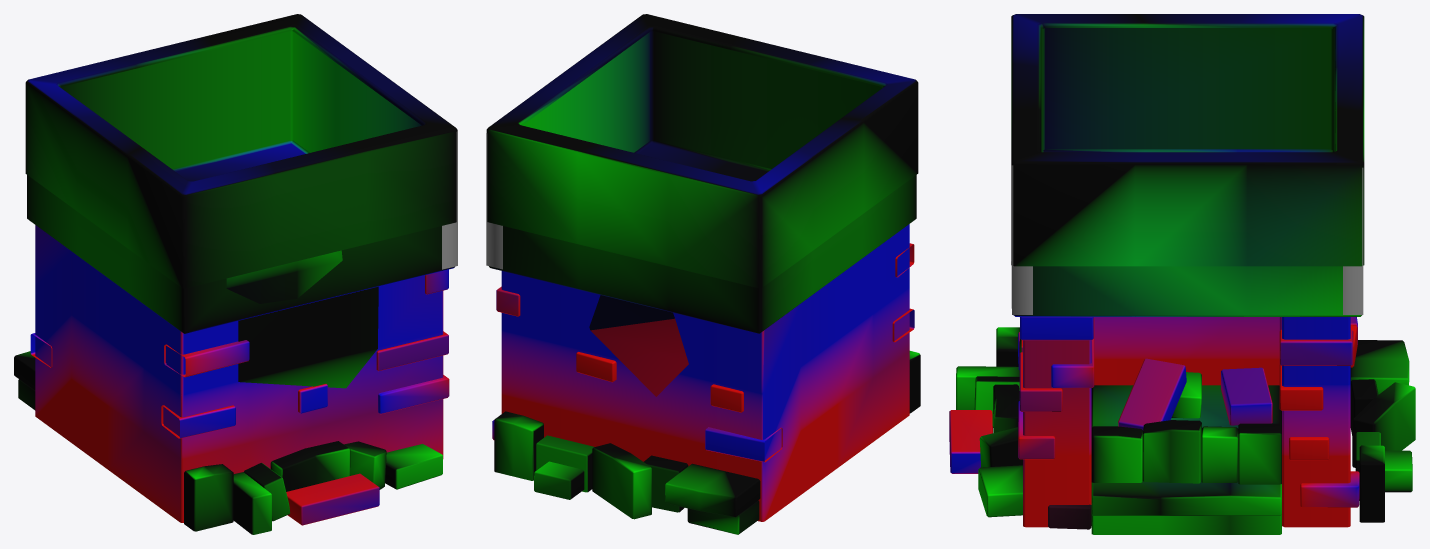
Rendered from ExtraBuilding_G_Snaps004.FBX.
3 renders of one model, left to right at view 1: azimuth 30°, elevation 25°; view 2: azimuth 150°, elevation 25°; view 3: azimuth 270°, elevation 25°, orthographic. The views are drawn at different scales.
Parts seen in each view (by area): view 1: Geometry_ExtraBuilding_G_LOD00, Geometry_Decal_B_LOD00, Geometry_Decal_C_LOD00, Geometry_Decal_A_LOD00; view 2: Geometry_ExtraBuilding_G_LOD00, Geometry_Decal_B_LOD00, Geometry_Decal_C_LOD00, Geometry_Decal_A_LOD00; view 3: Geometry_ExtraBuilding_G_LOD00, Geometry_Decal_B_LOD00, Geometry_Decal_A_LOD00.
Part boxes in pixels (x1,y1,x2,y2): Geometry_ExtraBuilding_G_LOD00: (14, 26, 454, 534); Geometry_Decal_B_LOD00: (25, 14, 457, 288); Geometry_Decal_C_LOD00: (226, 250, 378, 388); Geometry_Decal_A_LOD00: (442, 131, 457, 269); Geometry_ExtraBuilding_G_LOD00: (489, 26, 920, 534); Geometry_Decal_B_LOD00: (486, 14, 918, 288); Geometry_Decal_C_LOD00: (589, 295, 688, 396); Geometry_Decal_A_LOD00: (486, 133, 502, 269); Geometry_ExtraBuilding_G_LOD00: (949, 22, 1415, 534); Geometry_Decal_B_LOD00: (1011, 14, 1364, 266); Geometry_Decal_A_LOD00: (1011, 165, 1363, 314).
Size of what is drawn, in the model's own units: 92.04 by 100 by 114.
